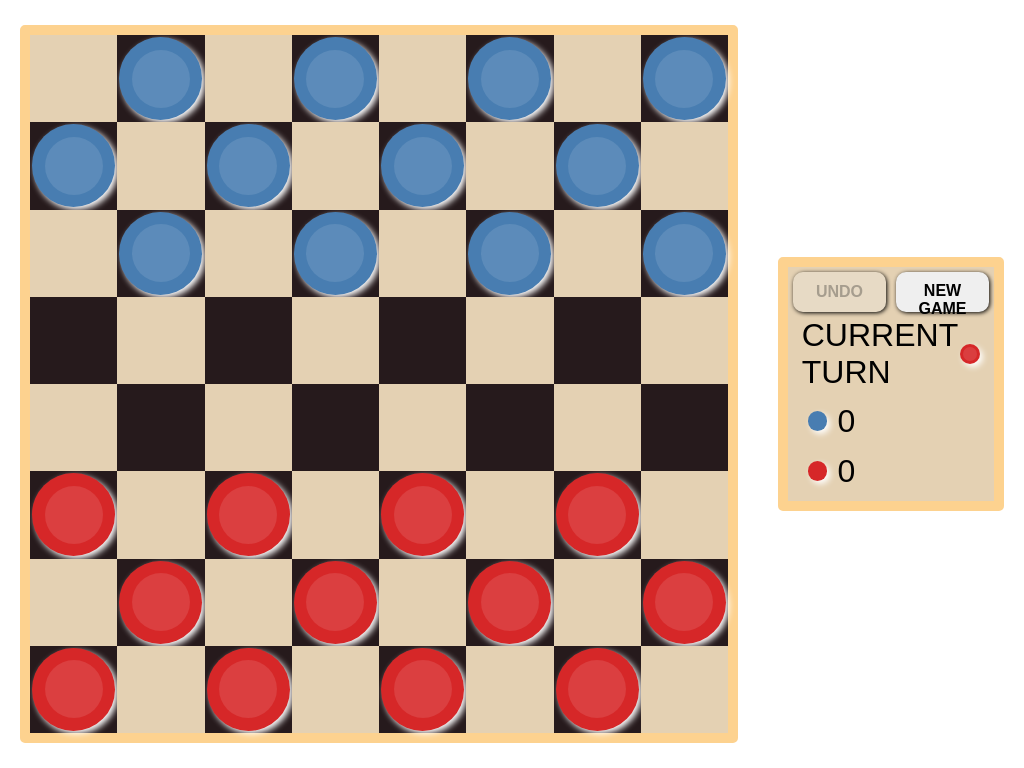
Test case: Board component › should allow a piece to be moved when a piece has a mouse over event
Hover over the 3rd element with test id "piece-white": (74, 515) 32,473 -> 115,556
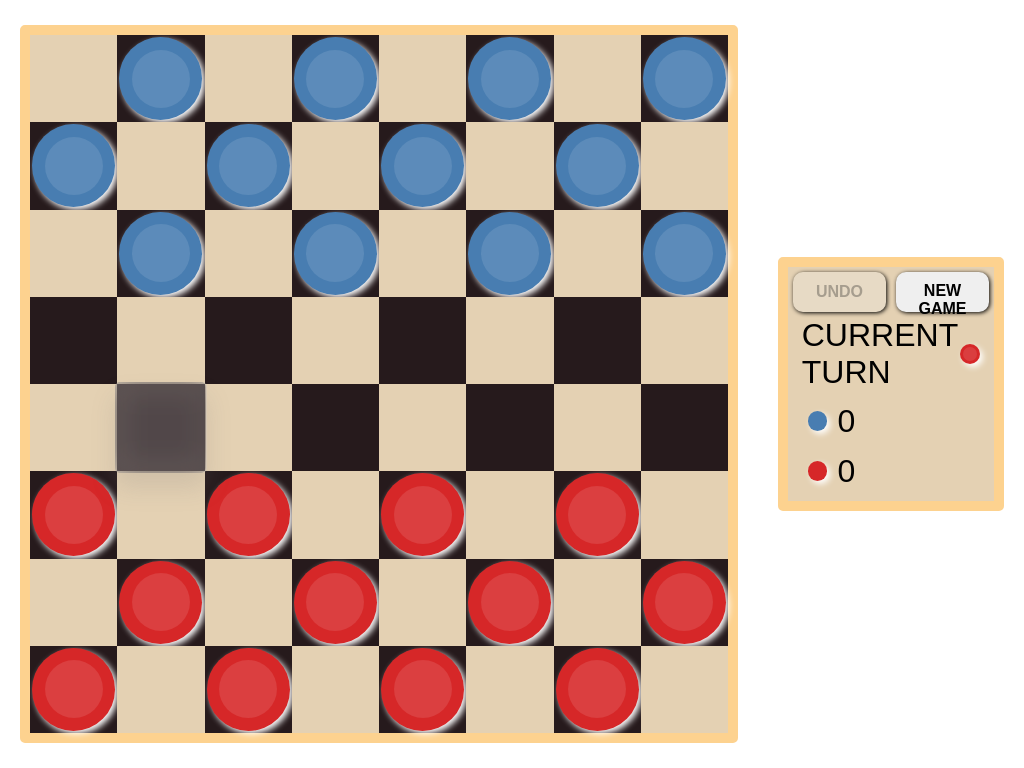
Check: the element with test id "highlighted" is shown, box 115,382 -> 207,473
